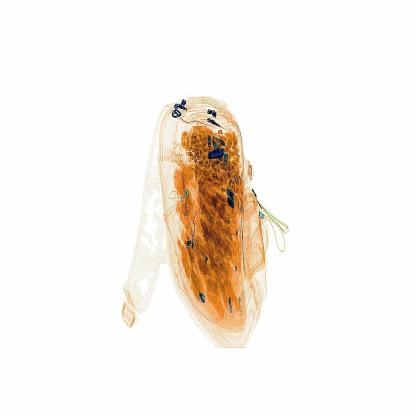knife: (204, 136, 234, 178)
